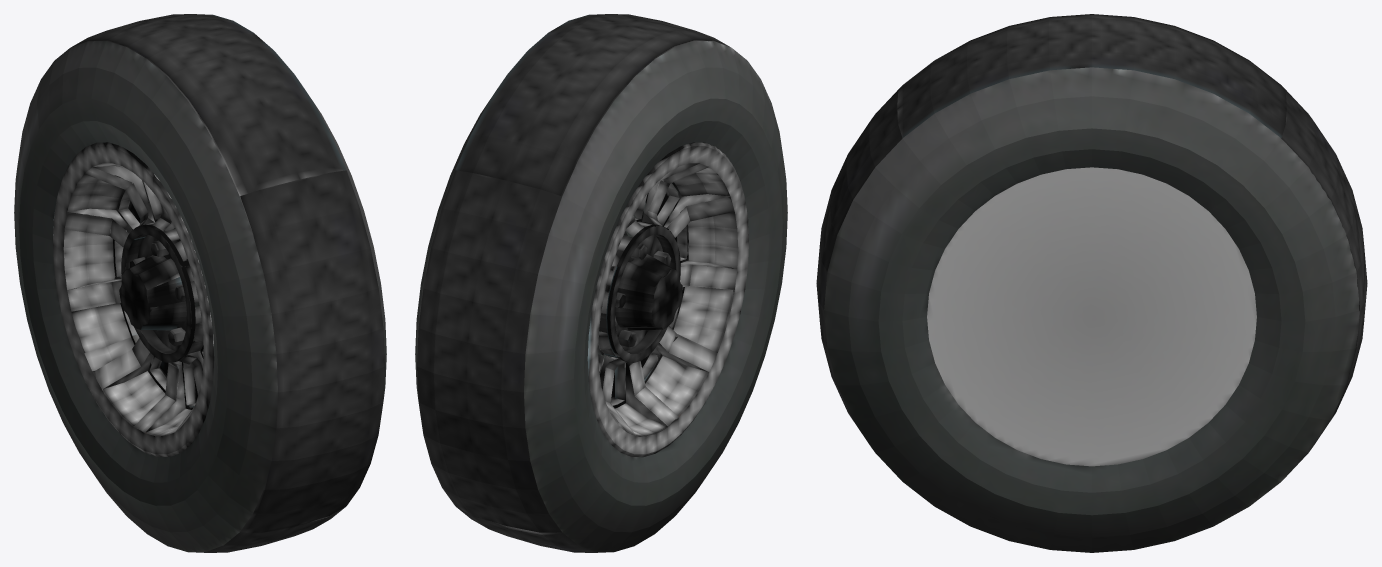
File: jeep_wheelright.obj
The picture shows the model from 3 angles, left to right: view 1: azimuth 30°, elevation 25°; view 2: azimuth 150°, elevation 25°; view 3: azimuth 270°, elevation 25°; orthographic projection. The views are drawn at different scales.
Size of the model in its own units: 0.3112 by 0.9445 by 0.9445.
